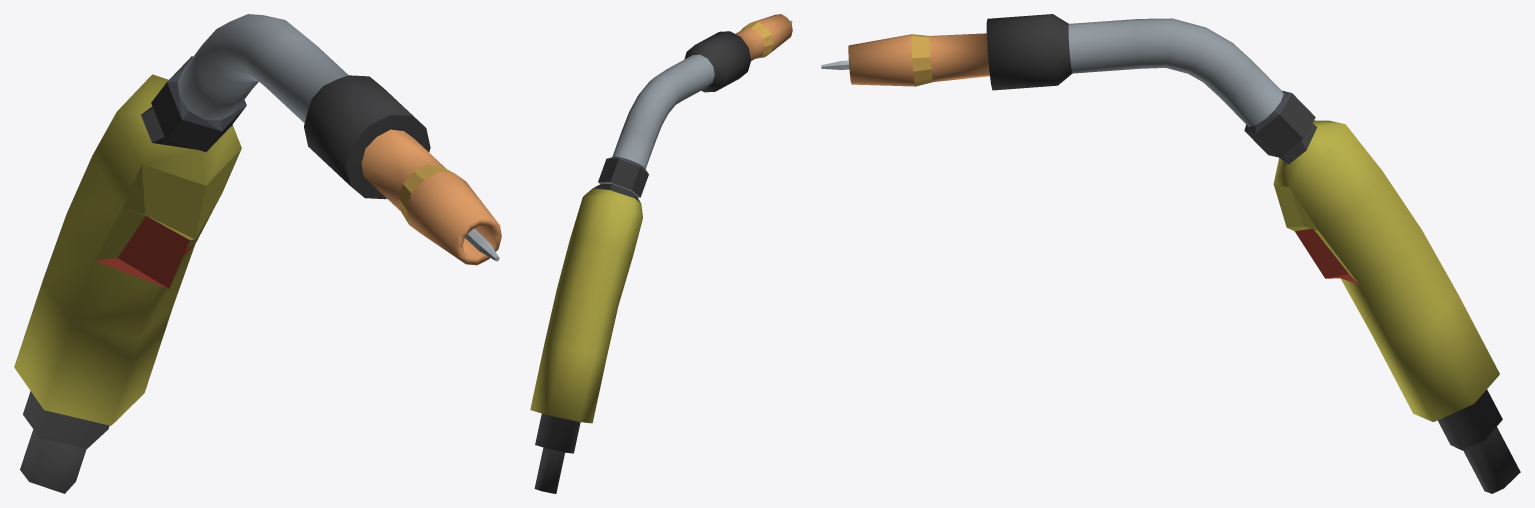
The model's file is gun v7.glb.
The picture shows the model from 3 angles, left to right: view 1: azimuth 30°, elevation 25°; view 2: azimuth 150°, elevation 25°; view 3: azimuth 270°, elevation 25°; orthographic projection. The views are drawn at different scales.
Visible parts, largest first — view 1: MIG_Handle (1); view 2: MIG_Handle (1); view 3: MIG_Handle (1).
Part boxes in pixels (x1,y1,x2,y2): MIG_Handle (1): (14, 14, 501, 493); MIG_Handle (1): (530, 14, 792, 493); MIG_Handle (1): (848, 14, 1520, 493).
Size of the model in its own units: 0.0229 by 0.1375 by 0.1848.
Materials: 1 (1 with a texture image).
